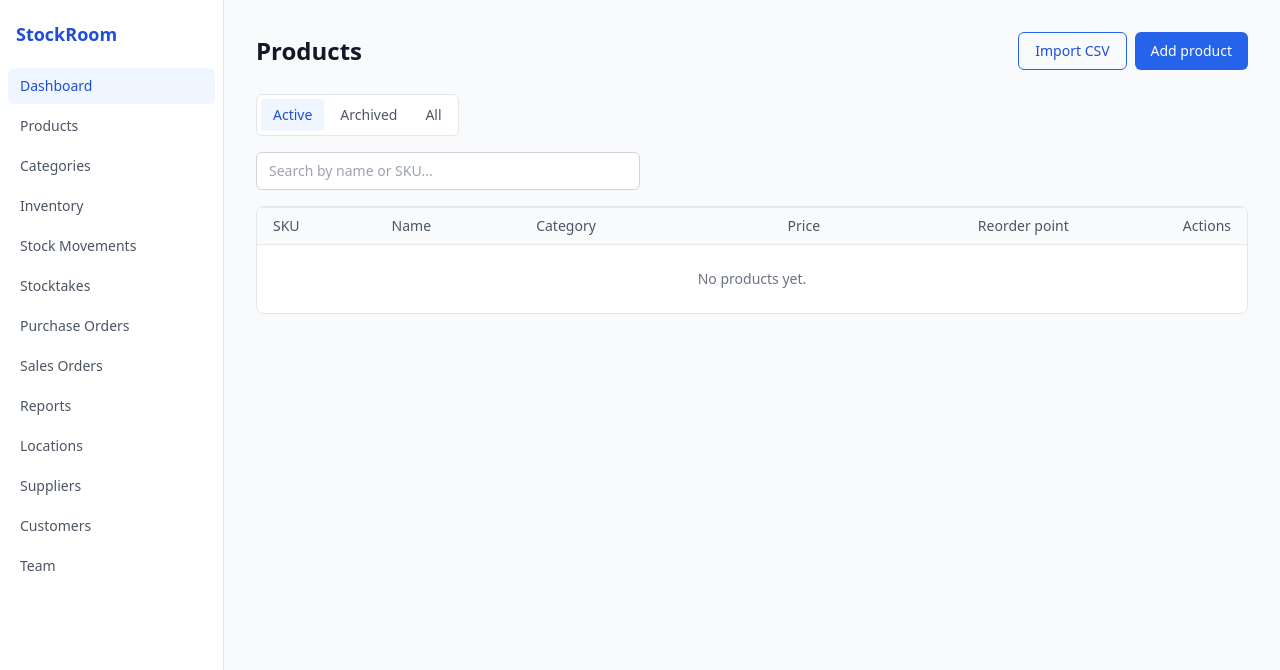
Test: ProductsPage create › keeps the form open with the server's message when the save fails
Expected: the text "No products yet." is shown, x1=257 y1=244 x2=1247 y2=313
Click the button "Add product" at (1191, 51), box x1=1135 y1=32 x2=1248 y2=70
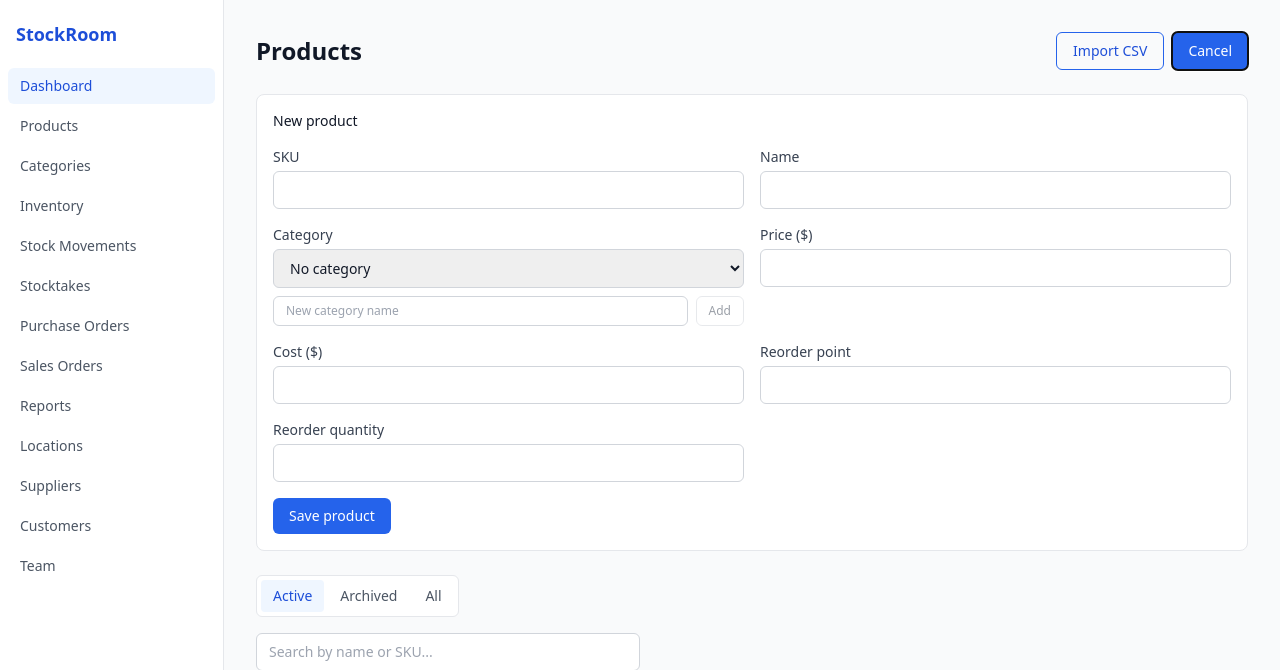
Type "WID-1" into the field labelled "SKU" at (508, 190), box x1=273 y1=171 x2=744 y2=209
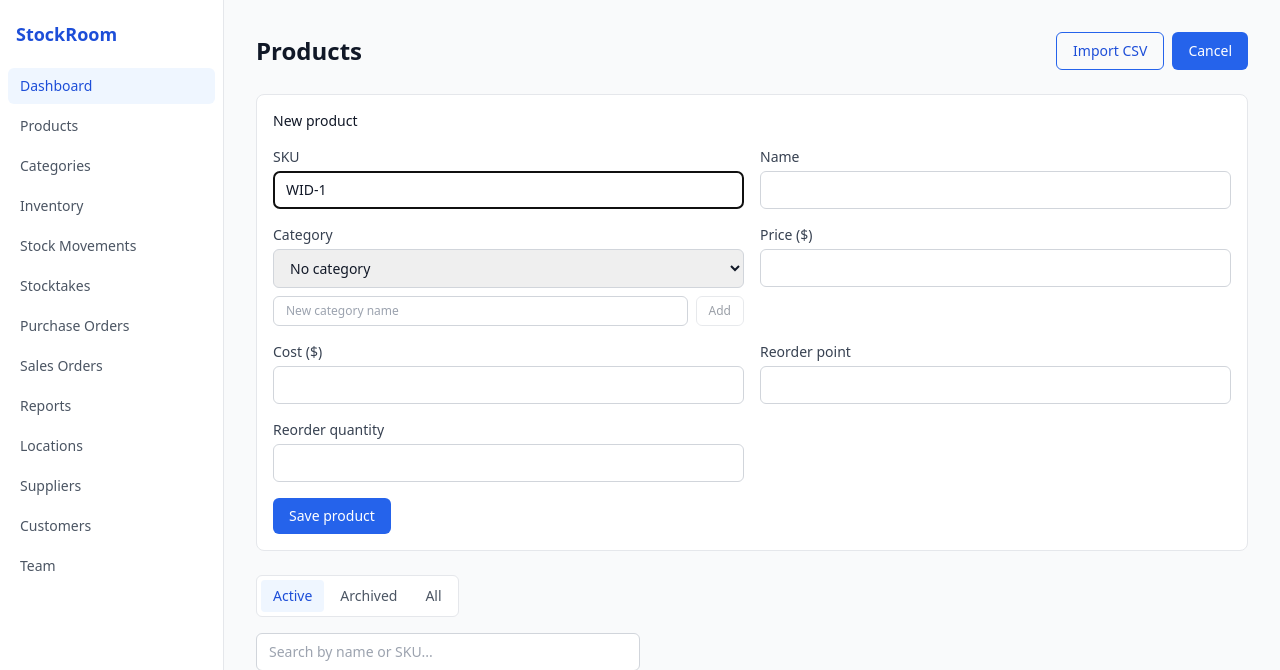
Type "Widget" into the field labelled "Name" at (996, 190), box x1=760 y1=171 x2=1231 y2=209
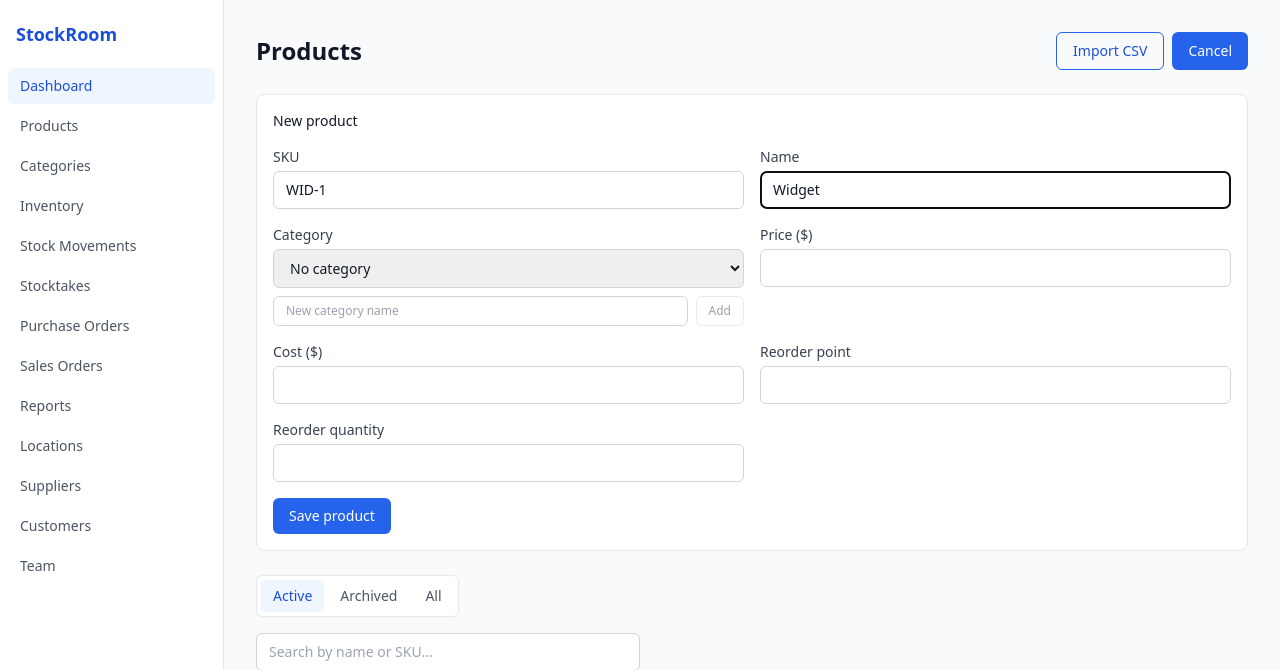
Click the button "Save product" at (332, 516), box x1=273 y1=498 x2=391 y2=534
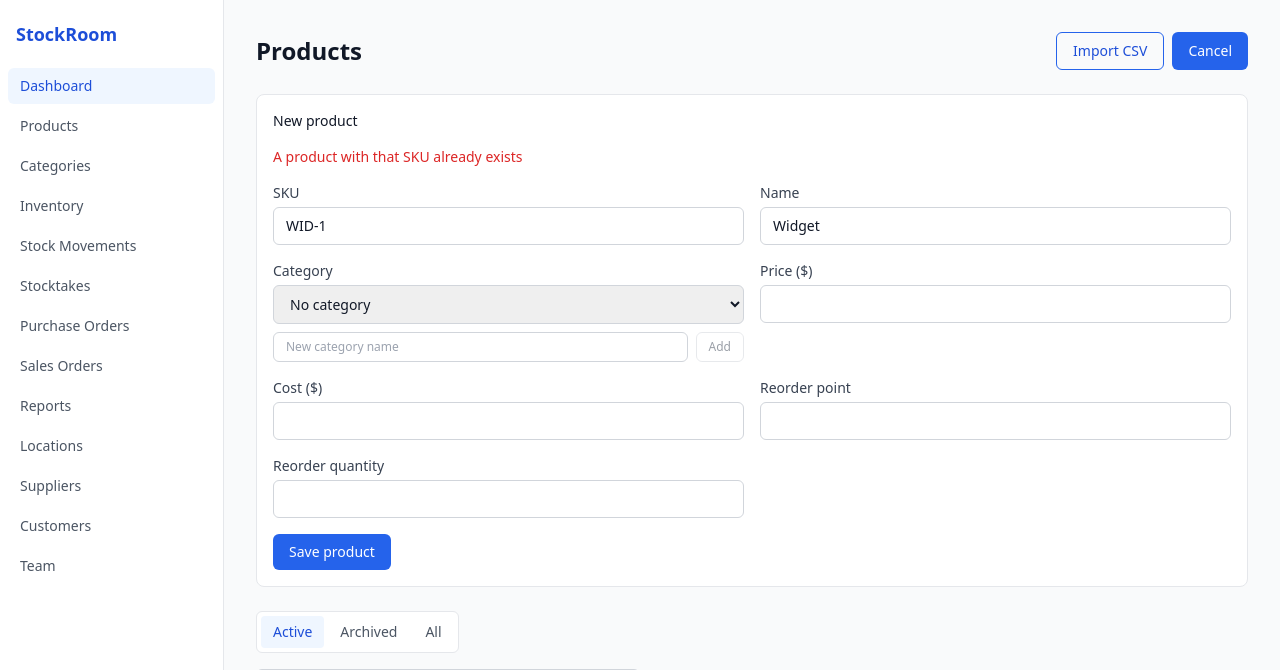
Now the text "A product with that SKU already exists" is shown, box x1=273 y1=147 x2=522 y2=166
